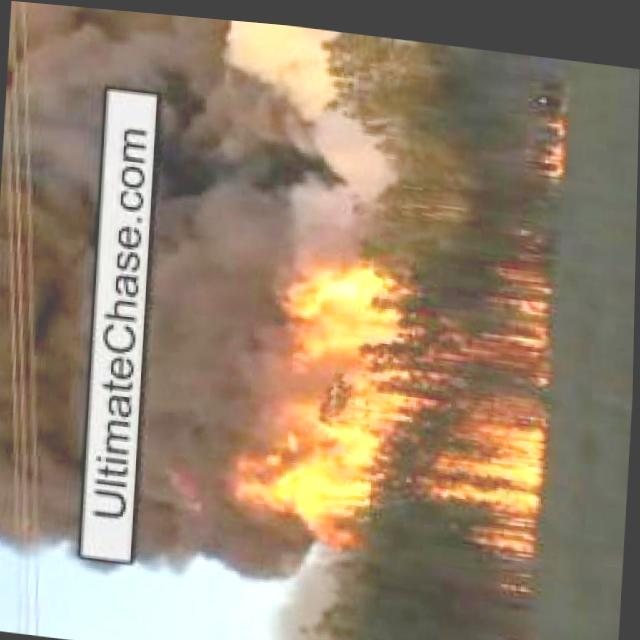Fire: (230, 228, 557, 544), (540, 101, 568, 172)
Smoke: (130, 10, 371, 640), (0, 0, 103, 551)
